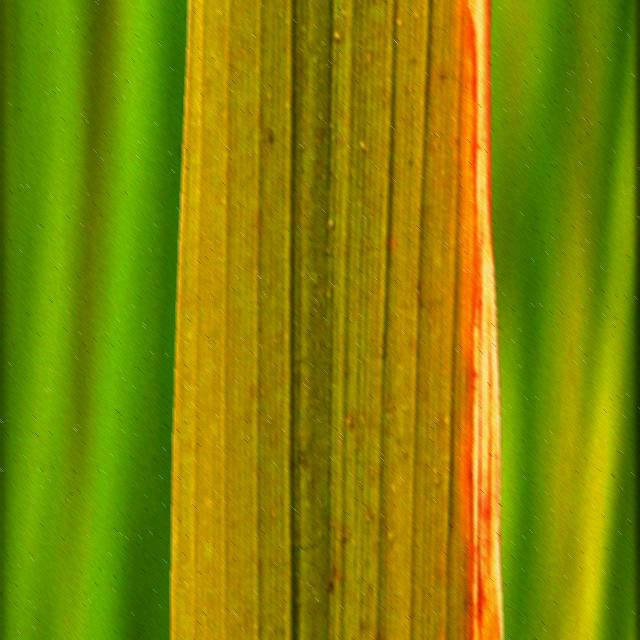BLS: (458, 0, 503, 640)
